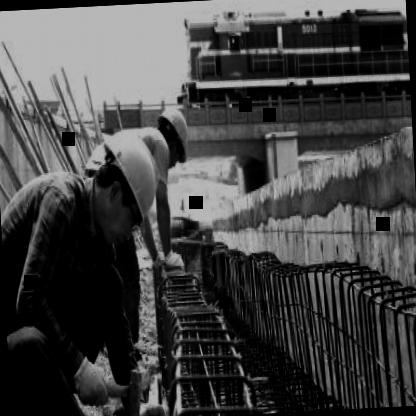helmet: (86, 119, 174, 253), (156, 105, 191, 163)
